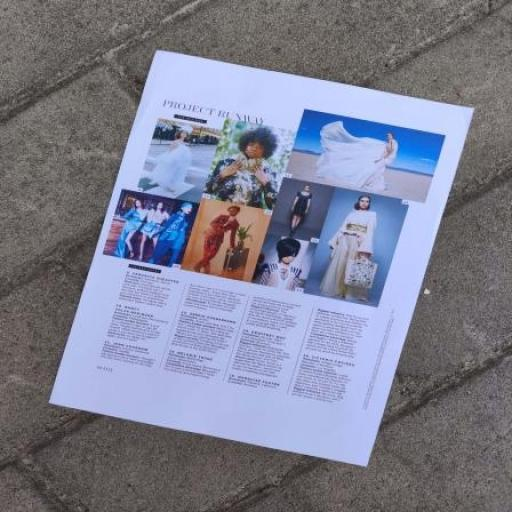paper: (23, 19, 512, 512)
